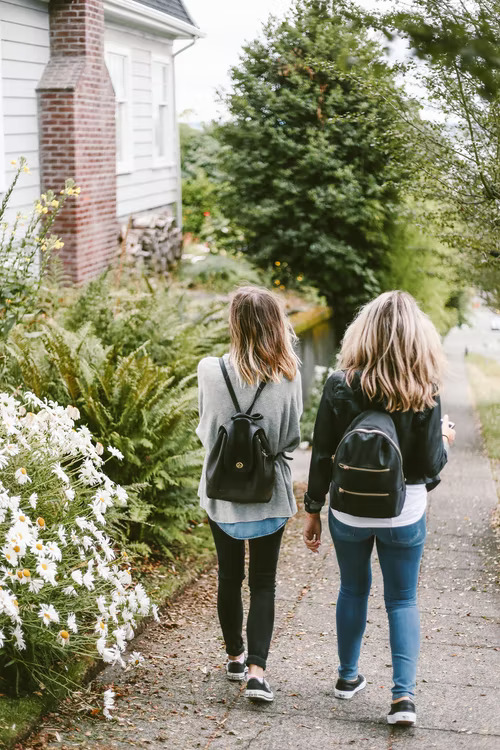person: (304, 290, 454, 723), (197, 288, 303, 702)
